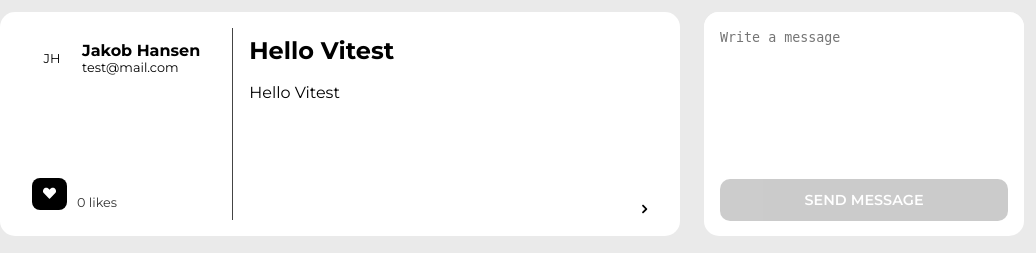
Test: PostComponent › shows that liking functionality works
Note: click on like button
Click the button with id "like-btn" at (50, 194), box [32, 178, 67, 210]
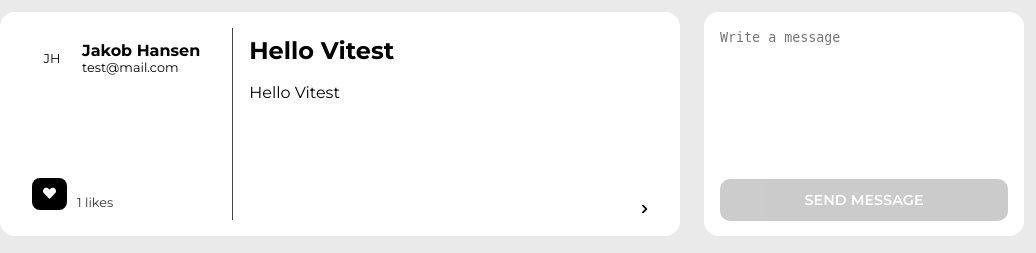
expect the text "1 likes" is shown: met, box [77, 195, 113, 210]
